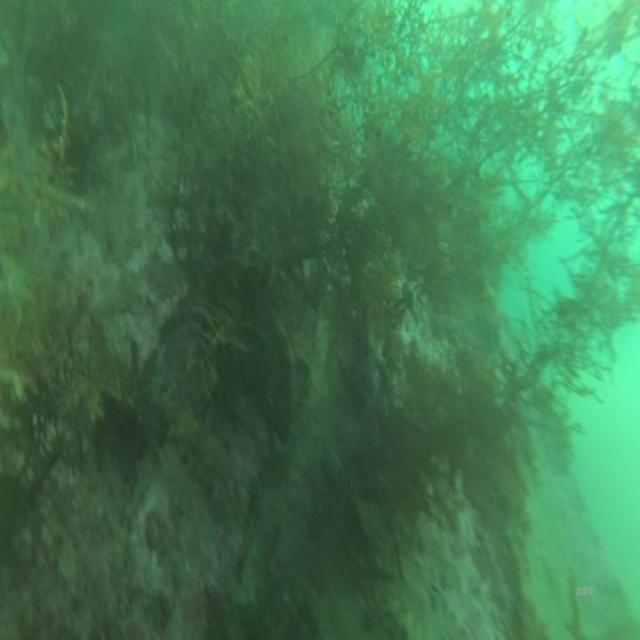waterweeds: (171, 1, 640, 478), (0, 278, 115, 550), (0, 86, 92, 232)
